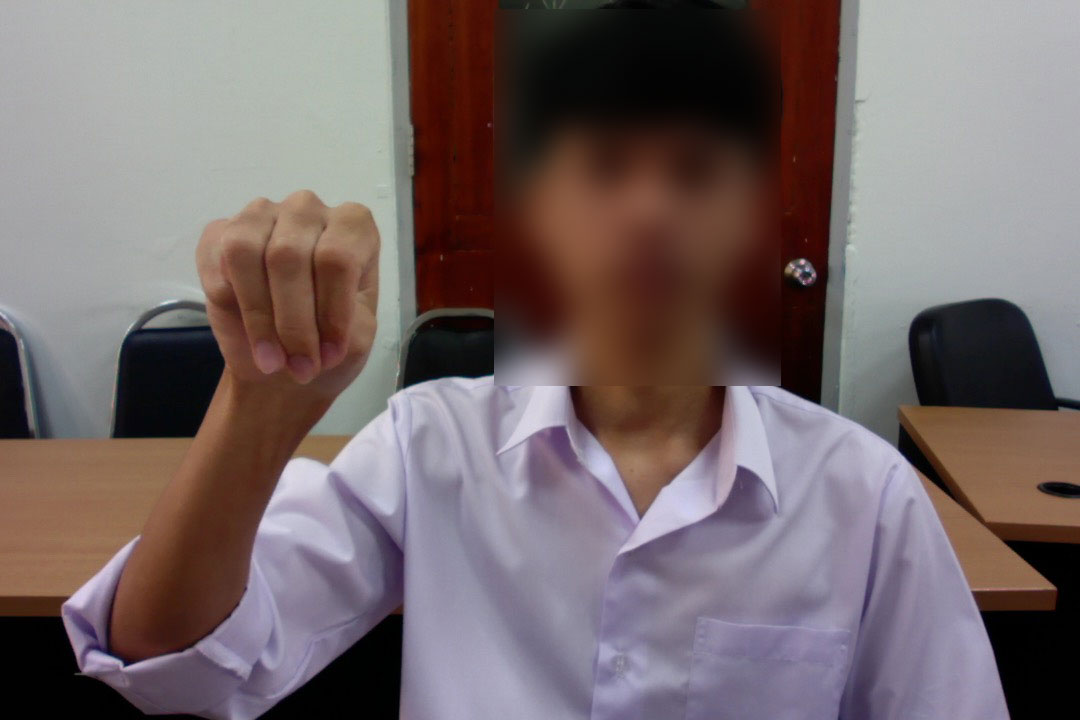mor: (185, 179, 387, 417)
